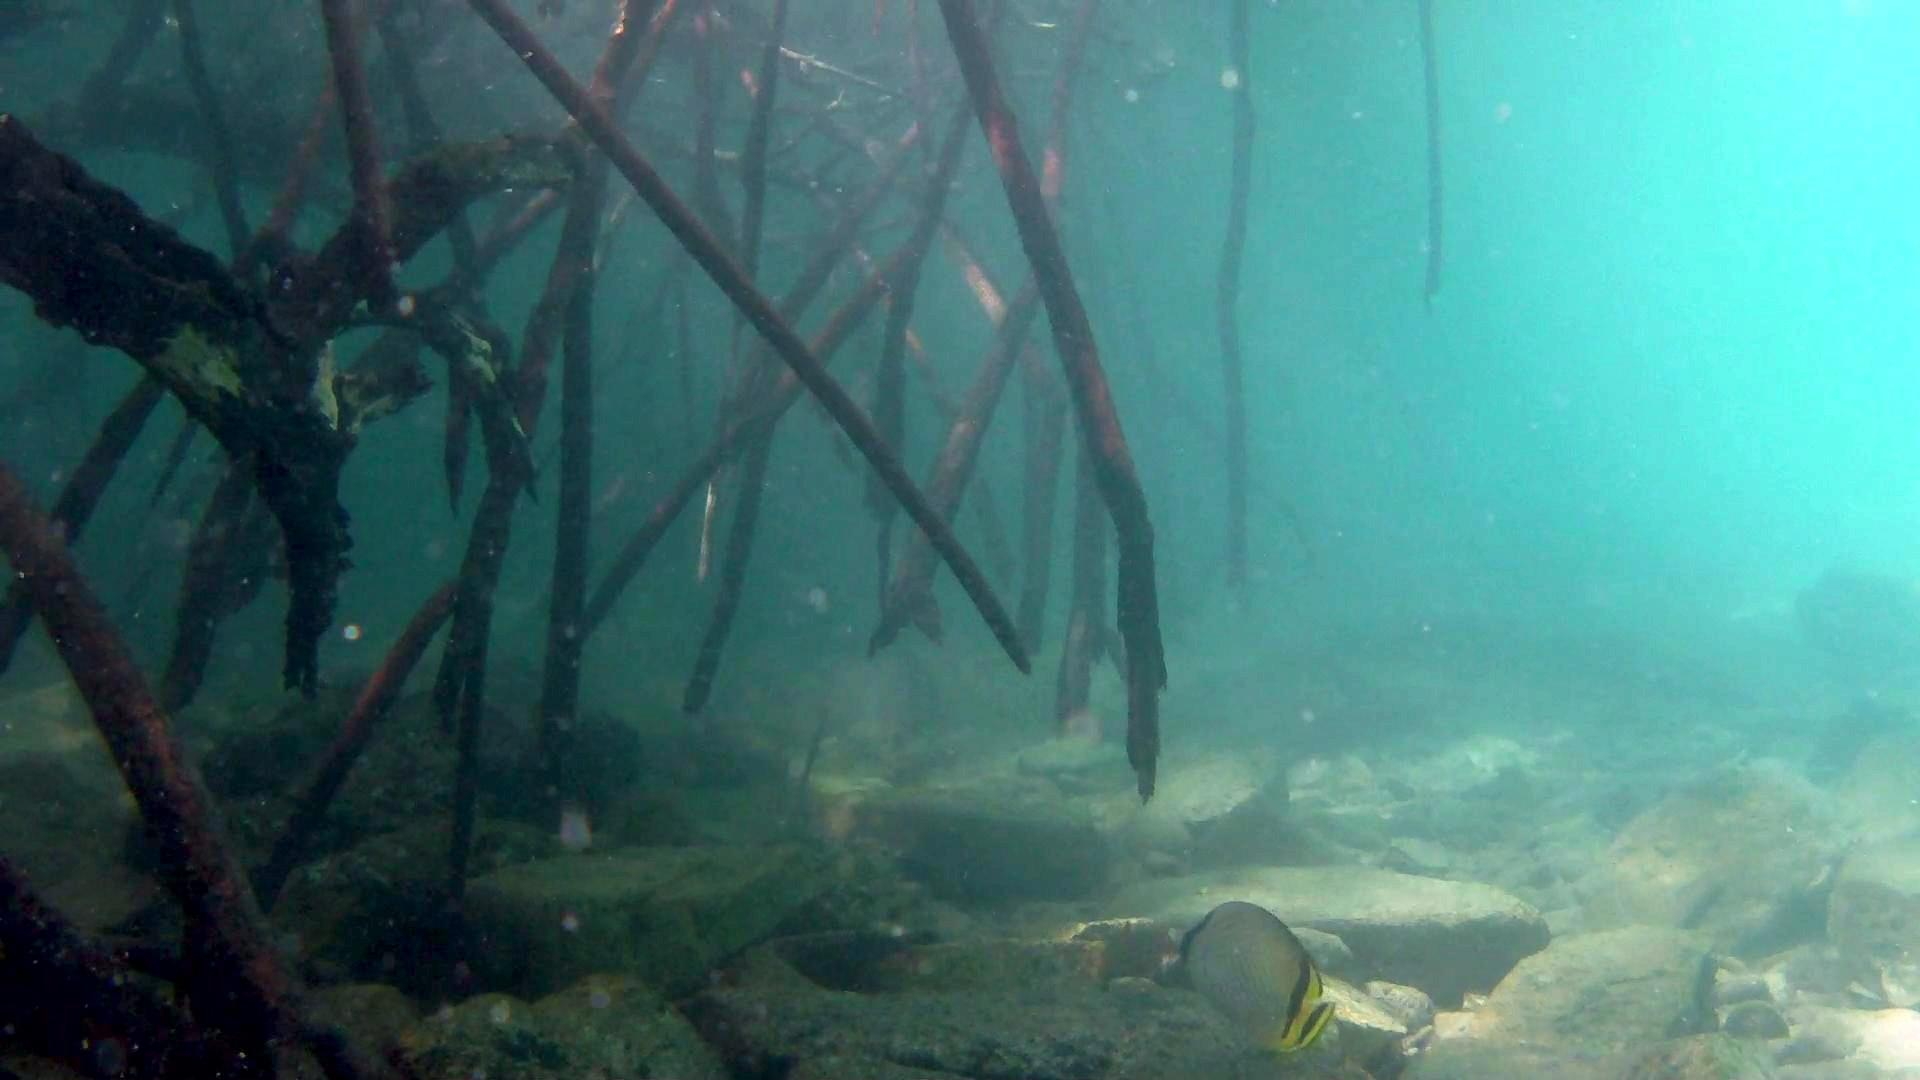chaetodon vagabundus: (1166, 901, 1338, 1056)
